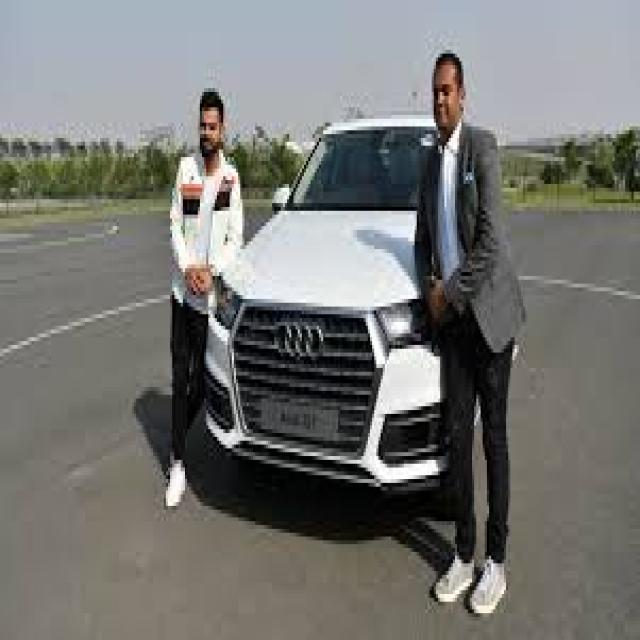Car: (205, 117, 448, 488)
